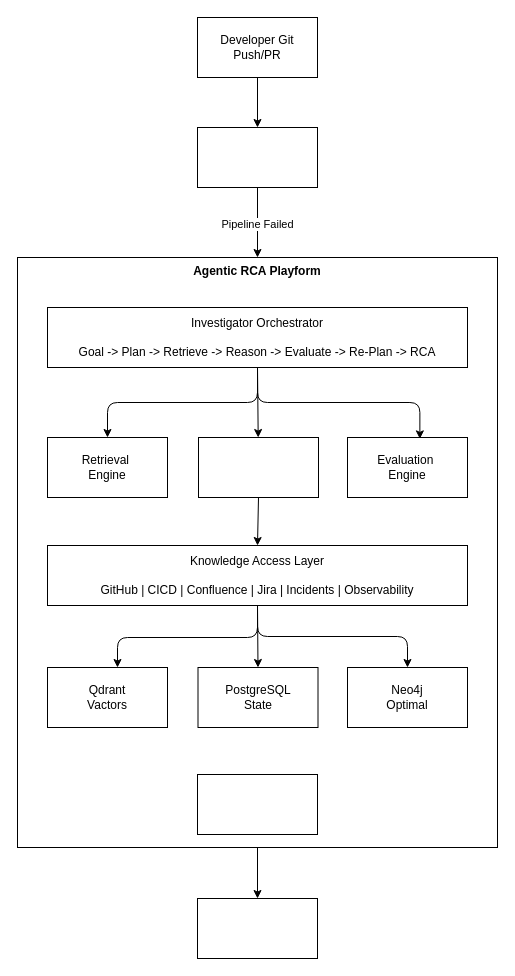
Image size: 515x976. Some labels were removed from this diagram. The shapes that lost their labels are listed below. From the top down, each one's box as (x1, y1, x2, y2) in pixels, then its label:
(196, 126, 318, 188): CICD System GitHub Actions/etc
(198, 436, 318, 498): Agent Tool
(196, 774, 318, 834): Memory
(196, 898, 318, 958): Ollama / Qwen Local LLM
